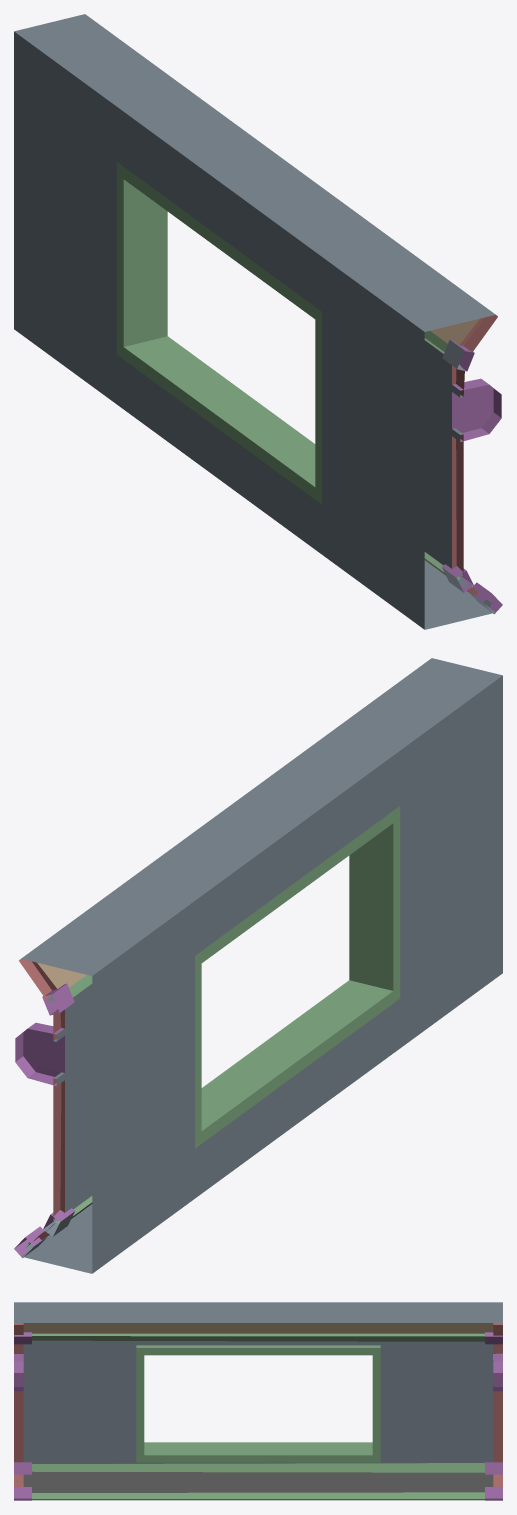
The model's file is Wall_Window.fbx.
The picture shows the model from 3 angles, top to bottom: view 1: azimuth 30°, elevation 25°; view 2: azimuth 150°, elevation 25°; view 3: azimuth 270°, elevation 25°; orthographic projection. The views are drawn at different scales.
Visible parts, largest first — view 1: Wall_Window; view 2: Wall_Window; view 3: Wall_Window.
Boxes of the visible parts, x1=… form: Wall_Window: x1=14, y1=14, x2=502, y2=629; Wall_Window: x1=14, y1=658, x2=502, y2=1273; Wall_Window: x1=14, y1=1302, x2=502, y2=1500.
Bounding box in the file's own units: 110 × 402 × 1000.
